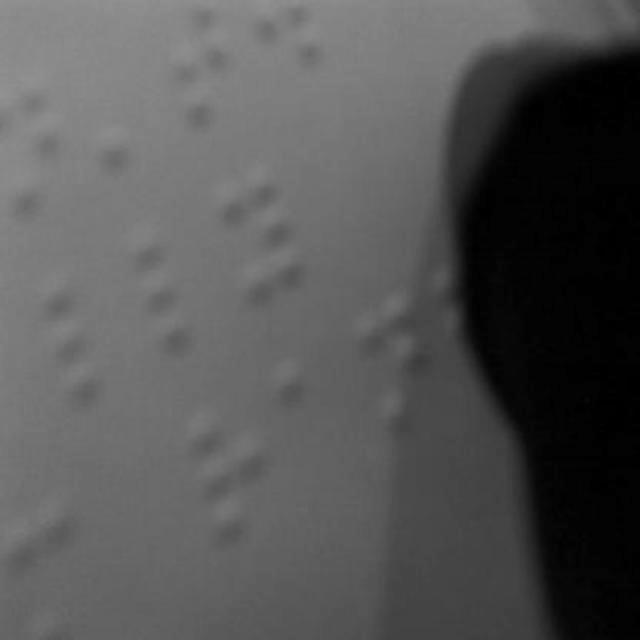braiile: (351, 281, 434, 433), (212, 170, 306, 304), (126, 233, 222, 363), (1, 80, 87, 222), (190, 400, 280, 534), (44, 268, 128, 400)
